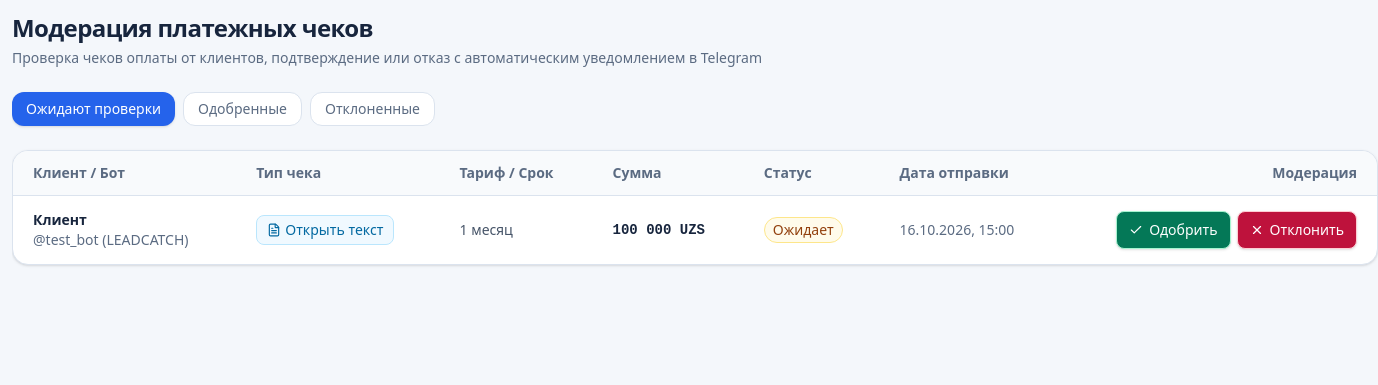
Test case: Модерация оплаты › не показывает успех при ошибке одобрения
Expected: the text "Клиент" is shown, [33, 210, 87, 229]
What coordinates should you click on to do the following:
click the button "Одобрить"
I would click on:
 (1173, 230)
Its box is [1116, 211, 1230, 249].
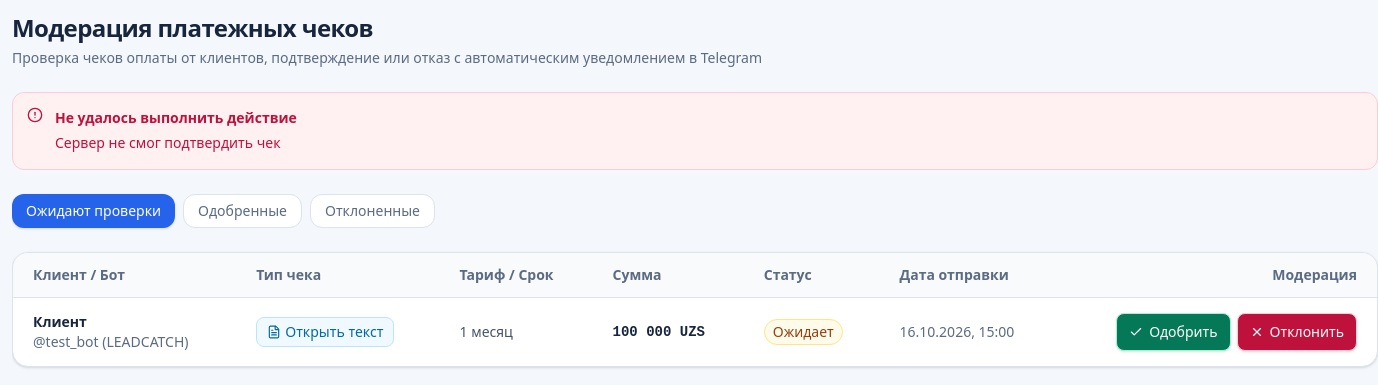
Expected: the text "Сервер не смог подтвердить чек" is shown, [55, 132, 297, 155]
